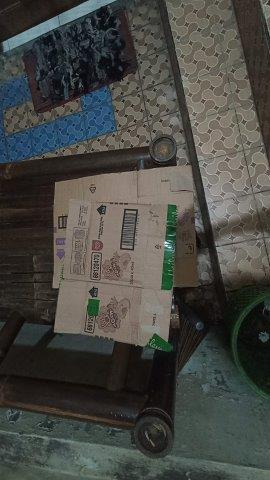kardus: (54, 166, 196, 347)
